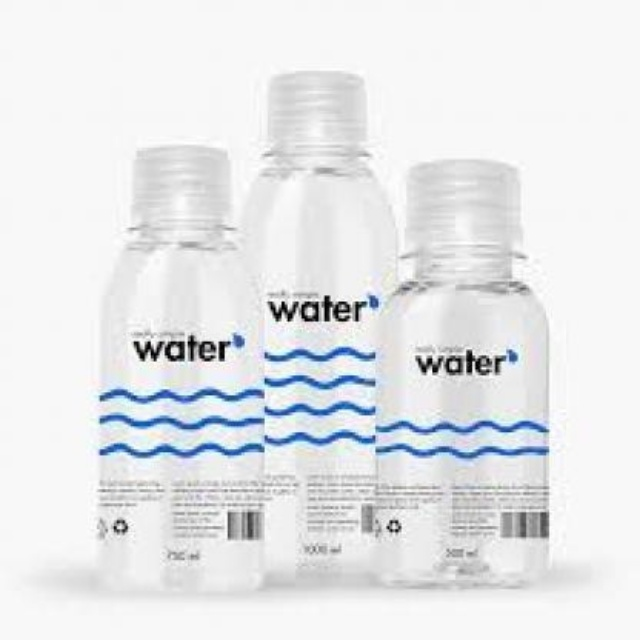trash: (245, 71, 392, 580), (97, 143, 263, 588), (375, 158, 548, 583)
